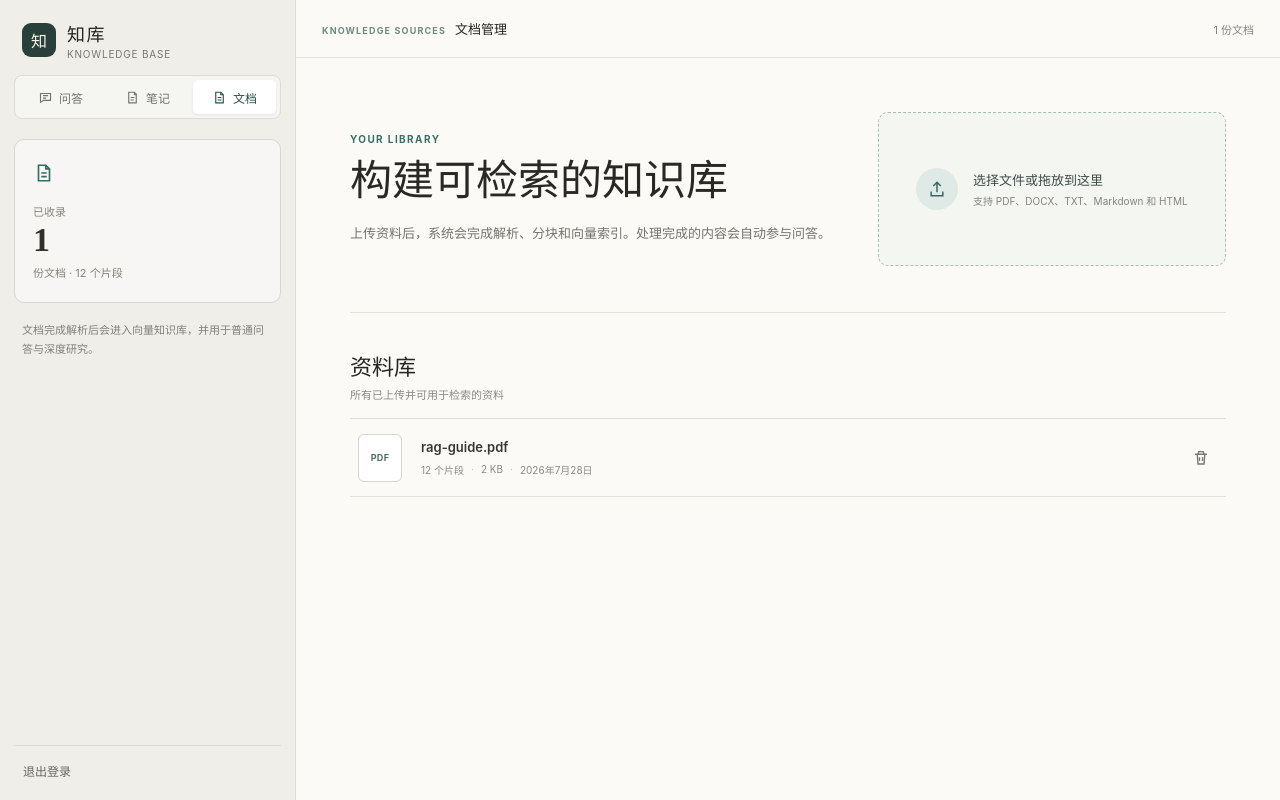
Test: 文档工作区 › 确认删除后乐观移除文档
The width and height of the screenshot is (1280, 800).
Expected: the text "rag-guide.pdf" is shown, [421,438,508,454]
Click the button named "删除 rag-guide.pdf" at (1201, 458), box [1184,440,1218,474]
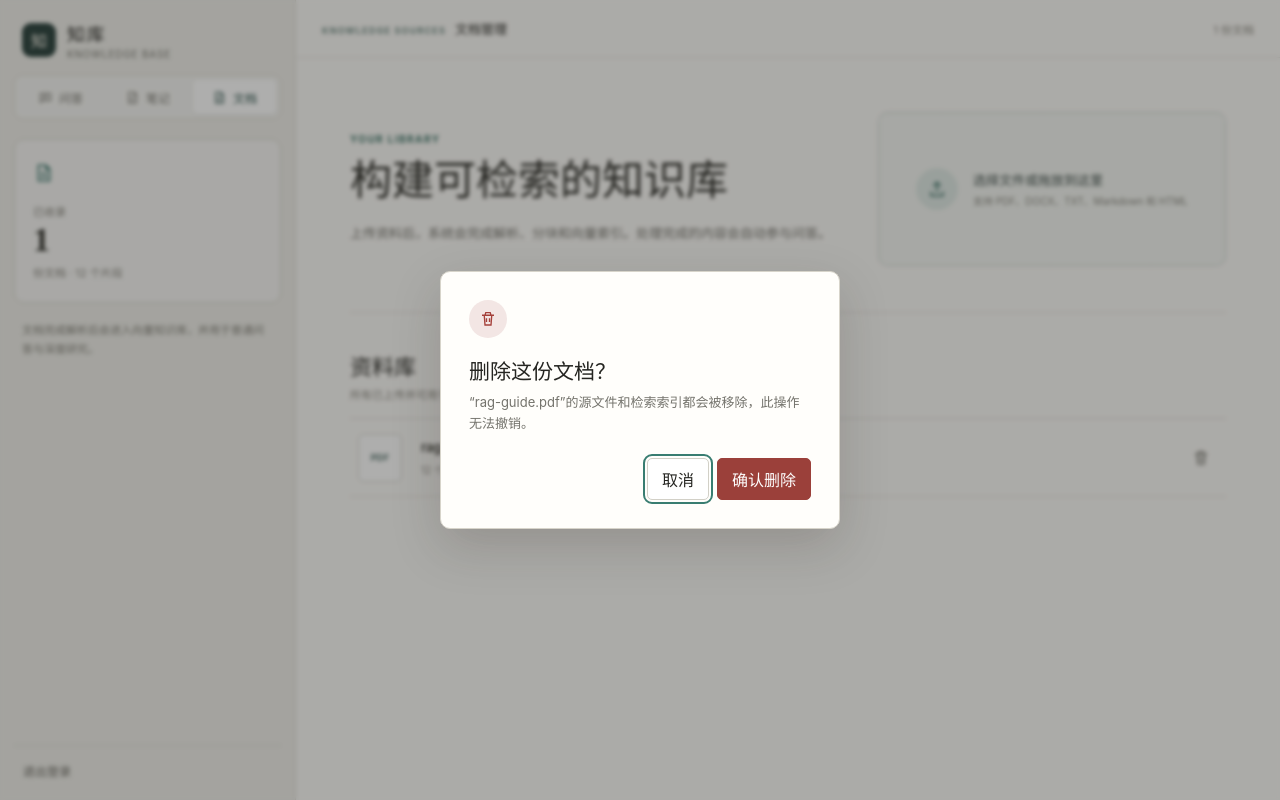
Click the button "确认删除" at (764, 479), box [717,458,811,500]
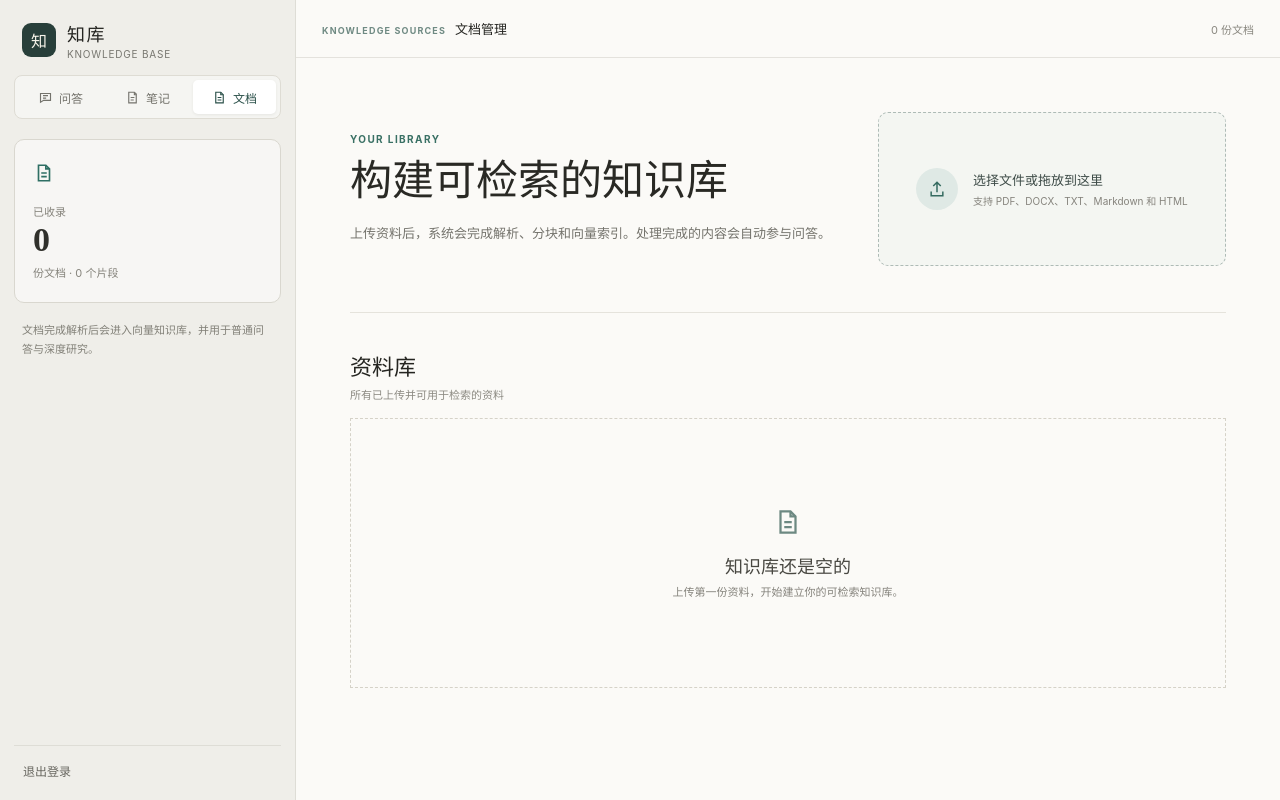
Now the text "rag-guide.pdf" is gone
